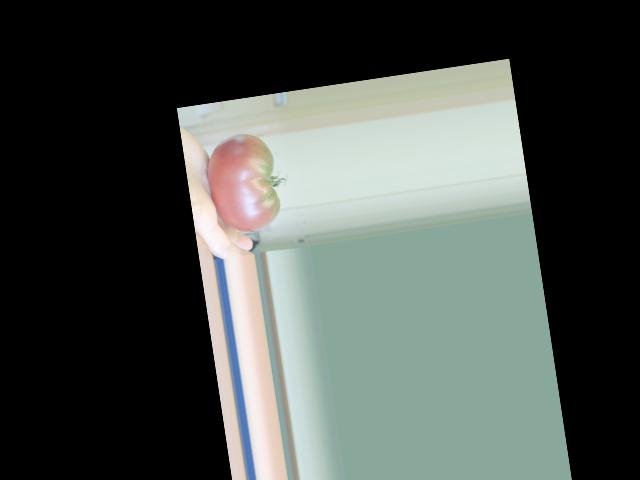tomato: (202, 129, 283, 236)
